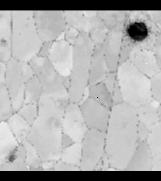good_void: (124, 19, 152, 47), (2, 144, 18, 163), (0, 33, 11, 49)
